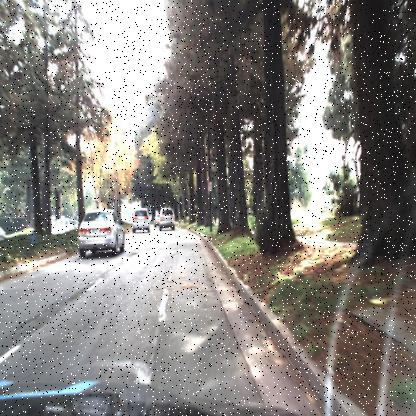car: (78, 206, 128, 257), (131, 206, 151, 233), (158, 206, 176, 233), (132, 206, 149, 232), (152, 210, 162, 231)
